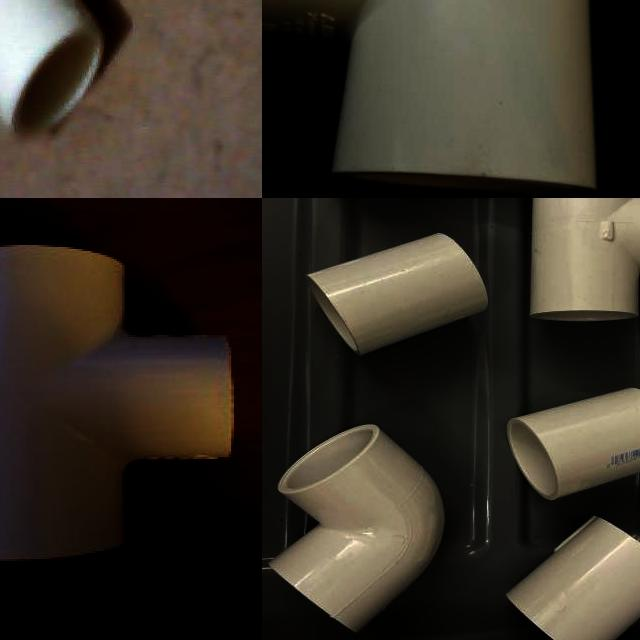L Joint: (262, 424, 448, 636)
T Joint: (0, 244, 236, 563), (262, 0, 600, 198), (528, 198, 640, 325)
